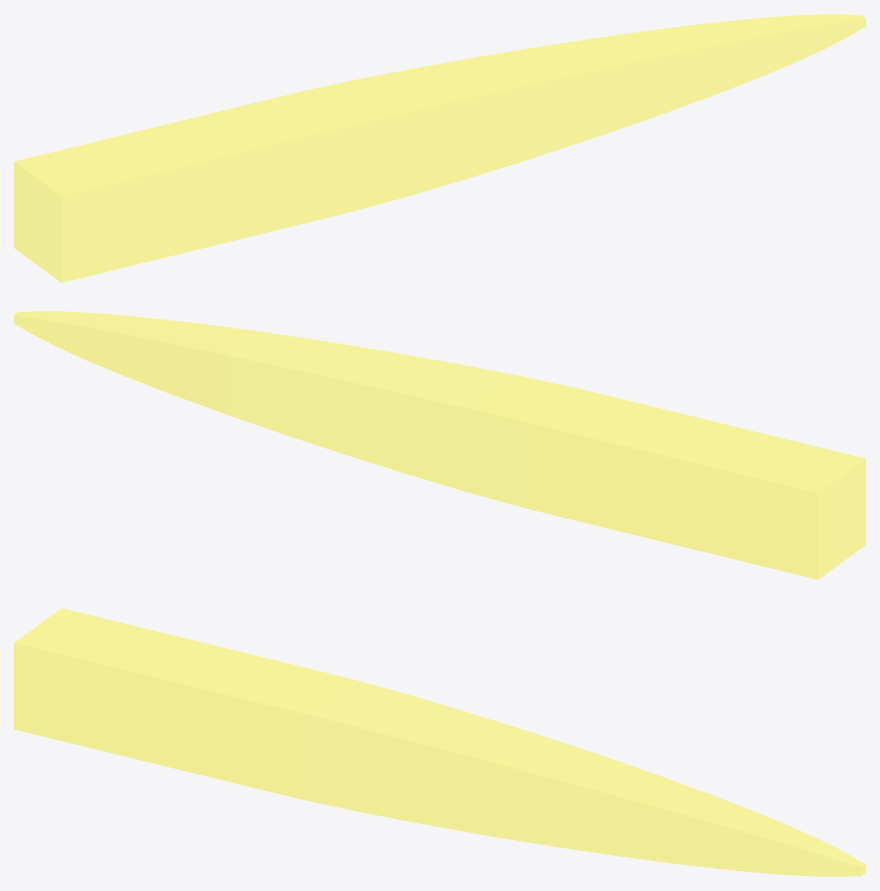
The model's file is spiral-particle-transformed.glb.
3 views of the same model, one above another, from view 1: azimuth 30°, elevation 25°; view 2: azimuth 150°, elevation 25°; view 3: azimuth 330°, elevation 25° (orthographic).
Parts seen in each view (by area): view 1: particle.001; view 2: particle.001; view 3: particle.001.
Part boxes in pixels (x1=…): particle.001: x1=14, y1=14, x2=865, y2=282; particle.001: x1=14, y1=311, x2=865, y2=579; particle.001: x1=14, y1=608, x2=865, y2=876.
Bounding box in the file's own units: 2 × 0.2 × 0.2.
